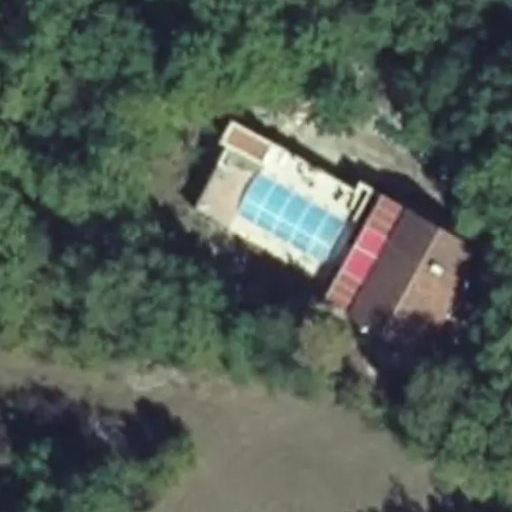pool: (199, 239, 312, 244)
